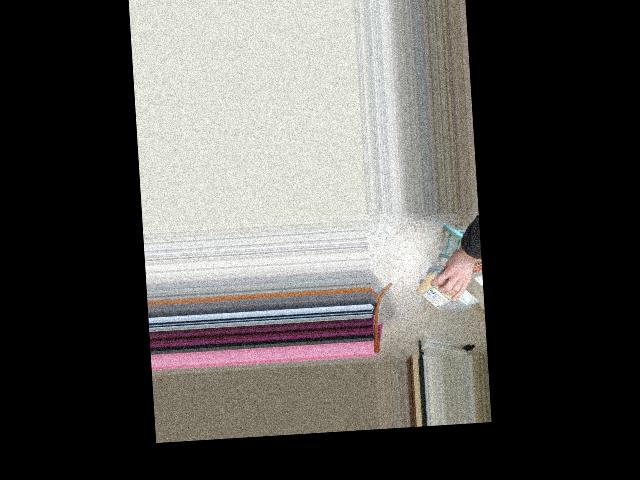cheese: (417, 274, 480, 310)
